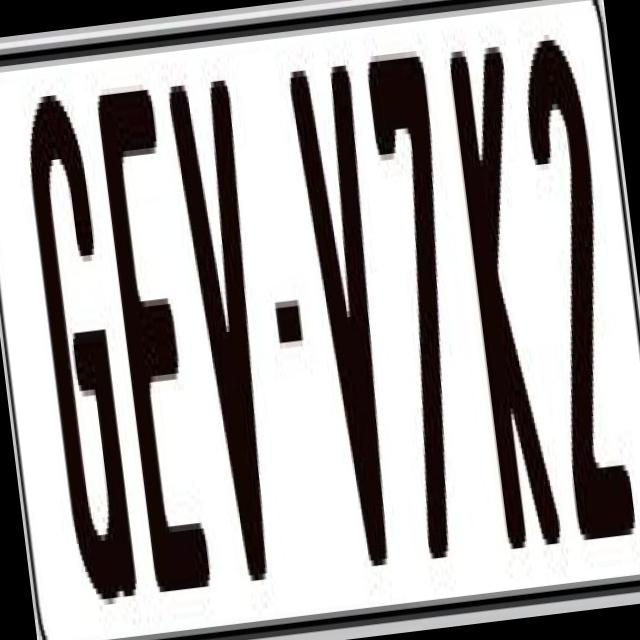2: (514, 19, 637, 558)
7: (362, 55, 490, 582)
E: (93, 77, 211, 604)
G: (14, 74, 143, 619)
K: (442, 28, 566, 550)
V: (285, 64, 414, 598), (162, 79, 292, 607)
